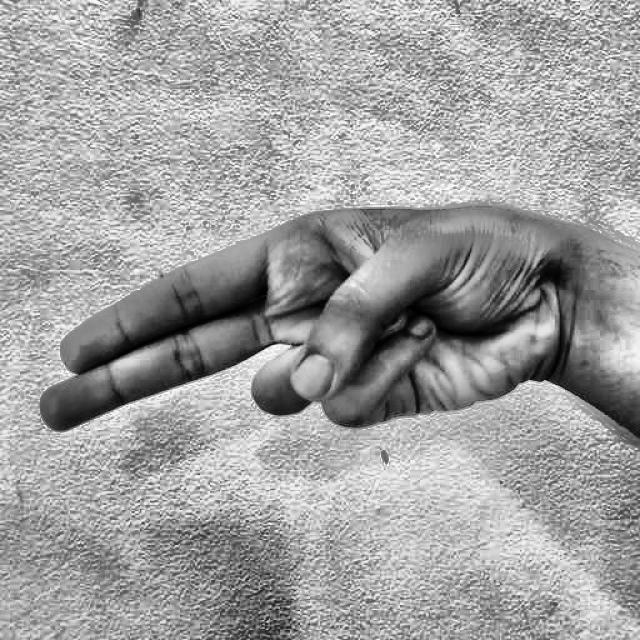Ha: (29, 161, 570, 549)
